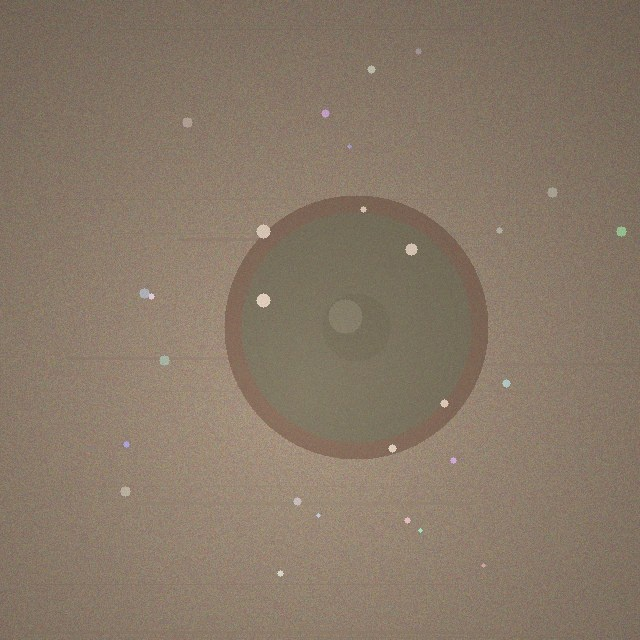overburn: (224, 195, 488, 459)
